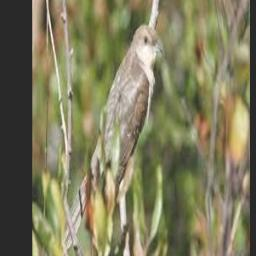Cuckoo: (58, 24, 164, 256)
